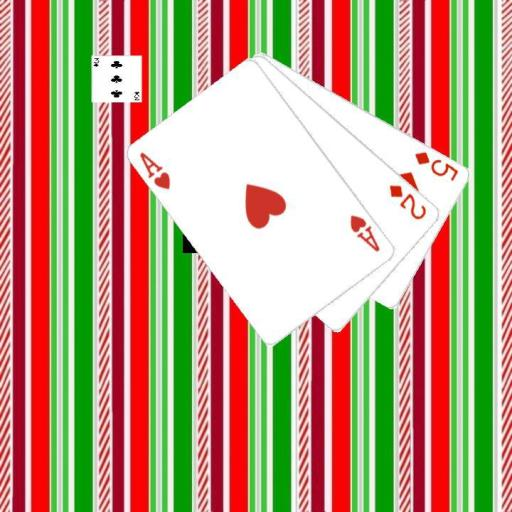2D: (386, 181, 429, 221)
5D: (412, 148, 460, 183)
AH: (136, 149, 173, 191), (347, 211, 382, 254)
